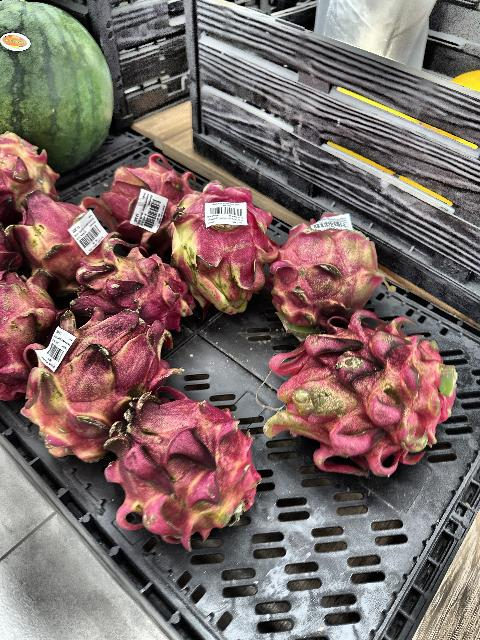buah-naga-belum-matang: (258, 328, 458, 462), (110, 400, 266, 546), (30, 308, 166, 462), (180, 191, 288, 315), (270, 212, 378, 322), (12, 190, 116, 284), (70, 251, 192, 323), (0, 275, 62, 405), (0, 128, 64, 206)
buah-naga-matang: (96, 157, 195, 241)
